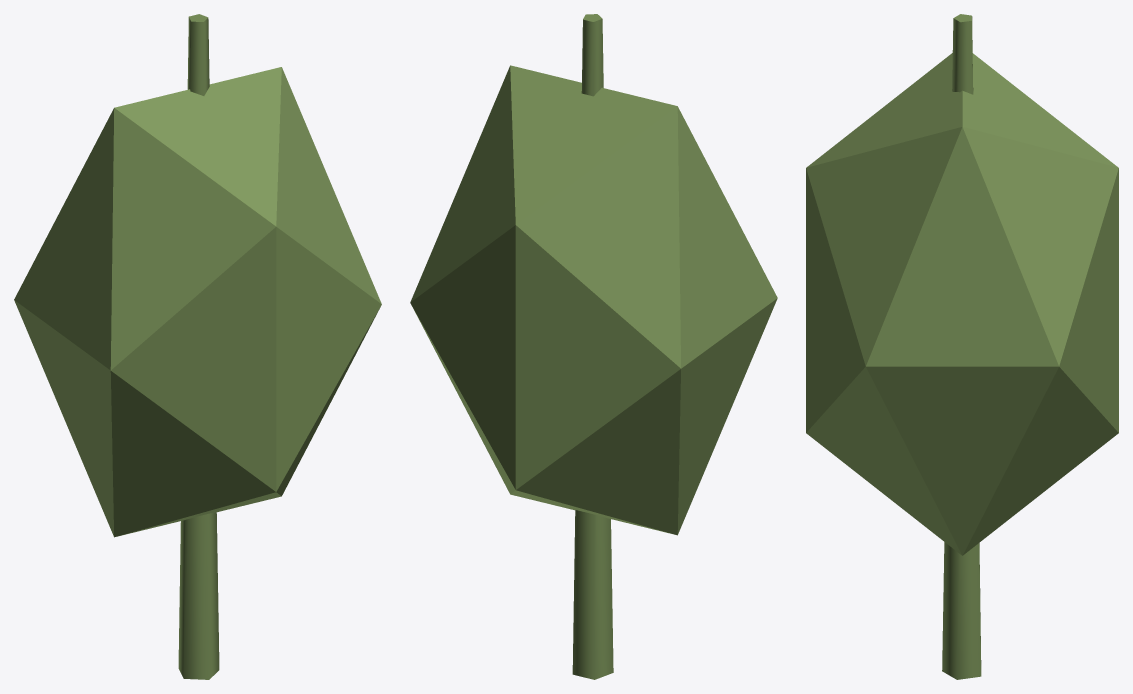
3 renders of one model, left to right at view 1: azimuth 30°, elevation 25°; view 2: azimuth 150°, elevation 25°; view 3: azimuth 270°, elevation 25°, orthographic.
Parts seen in each view (by area): view 1: shadow-crown; view 2: shadow-crown; view 3: shadow-crown.
Part boxes in pixels (x1,y1,x2,y2): shadow-crown: (14, 14, 381, 679); shadow-crown: (410, 14, 777, 679); shadow-crown: (806, 14, 1118, 679).
Size of the model in its own units: 4.34 by 10 by 4.34.
